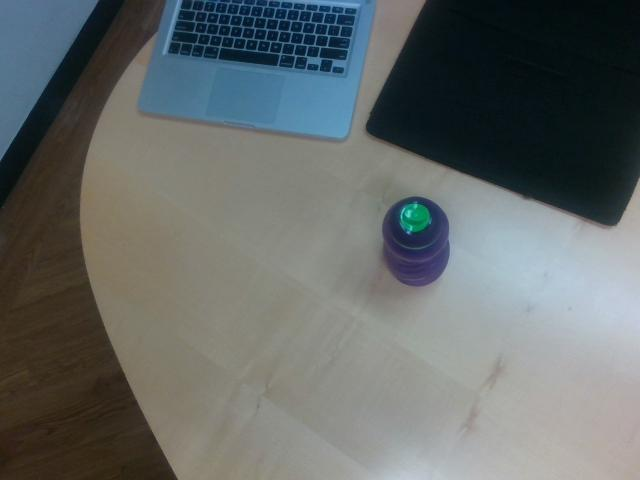bottle: (381, 197, 450, 287)
